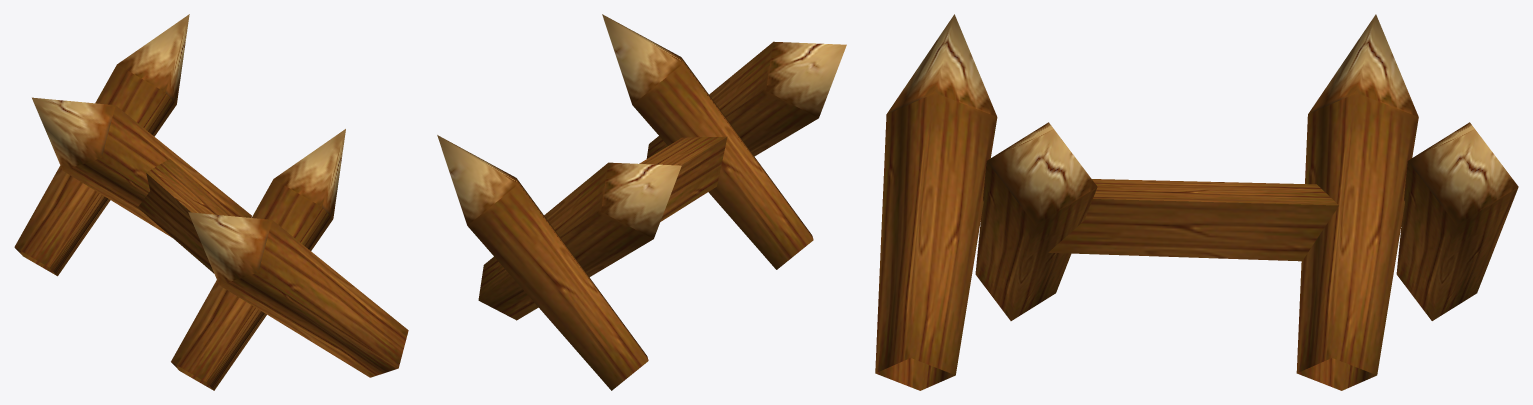
File: wood04q.FBX
3 renders of one model, left to right at view 1: azimuth 30°, elevation 25°; view 2: azimuth 150°, elevation 25°; view 3: azimuth 270°, elevation 25°, orthographic. The views are drawn at different scales.
Parts seen in each view (by area): view 1: Object004; view 2: Object004; view 3: Object004.
Boxes of the visible parts, <box> form: Object004: <box>14,14,408,390</box>; Object004: <box>437,14,846,390</box>; Object004: <box>875,14,1518,390</box>.
Bounding box in the file's own units: 116 × 116 × 235.
